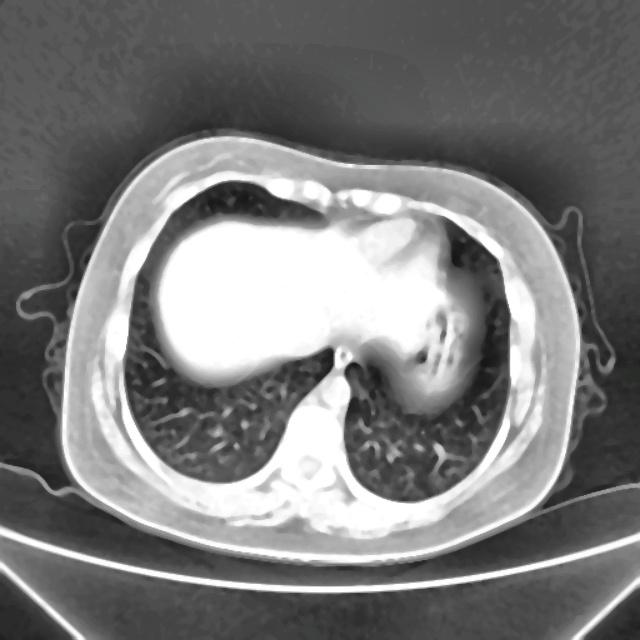covid: (42, 129, 598, 564)
